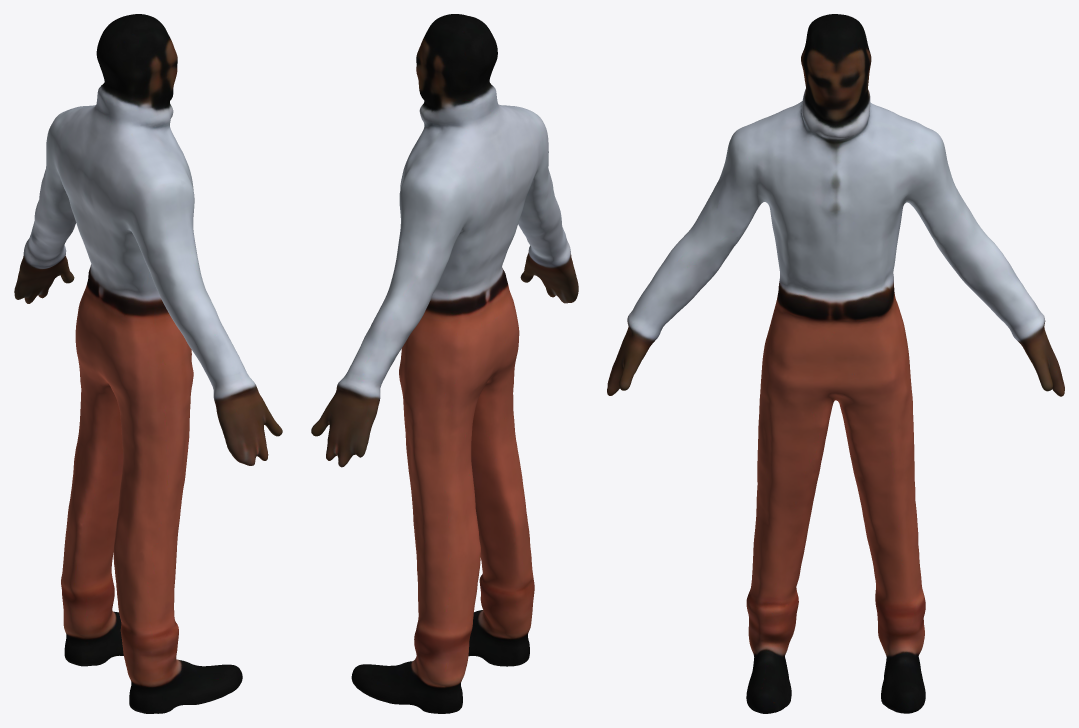
The model's file is shirt.glb.
The picture shows the model from 3 angles, left to right: view 1: azimuth 30°, elevation 25°; view 2: azimuth 150°, elevation 25°; view 3: azimuth 270°, elevation 25°; orthographic projection.
Visible parts, largest first — view 1: high_poly; view 2: high_poly; view 3: high_poly.
Boxes of the visible parts, x1,y1,x2,y2 form: high_poly: (14, 14, 282, 713); high_poly: (311, 14, 578, 713); high_poly: (607, 14, 1064, 713).
Bounding box in the file's own units: 0.1908 × 1 × 0.618.
Materials: 1 (1 with a texture image).
